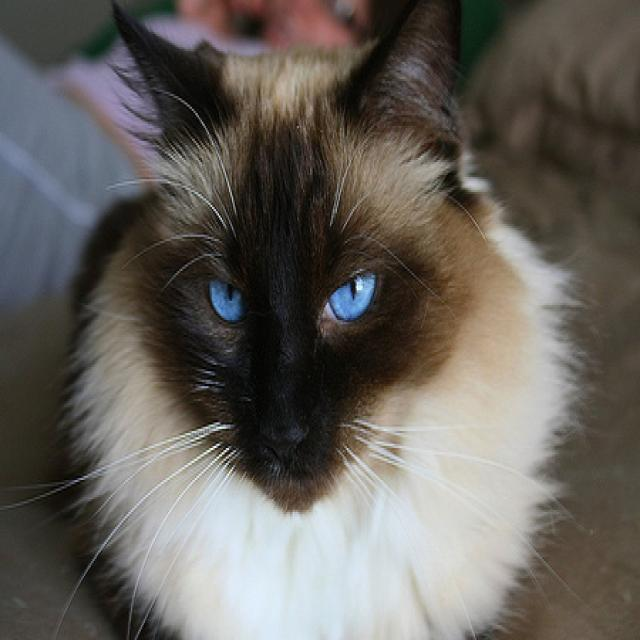Birman: (61, 0, 590, 640)
